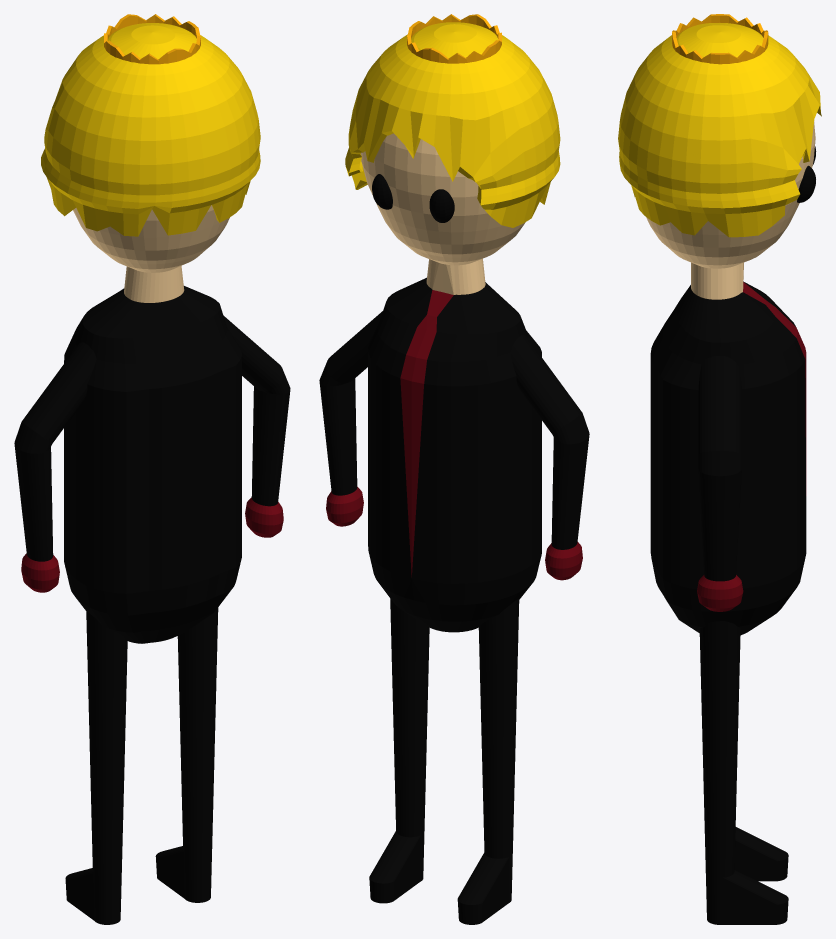
File: boss.glb
The picture shows the model from 3 angles, left to right: view 1: azimuth 30°, elevation 25°; view 2: azimuth 150°, elevation 25°; view 3: azimuth 270°, elevation 25°; orthographic projection. The views are drawn at different scales.
Parts seen in each view (by area): view 1: head, hair, legL, legR, armL, armR, crown; view 2: head, hair, legL, legR, armL, armR, crown, eyes; view 3: head, hair, legR, armR, legL, crown, eyes.
Boxes of the visible parts, left/top/right/bottom form: head: left=64, top=205, right=241, bottom=643; hair: left=41, top=23, right=260, bottom=236; legL: left=65, top=611, right=127, bottom=924; legR: left=155, top=607, right=218, bottom=902; armL: left=14, top=342, right=96, bottom=592; armR: left=223, top=315, right=290, bottom=537; crown: left=104, top=14, right=200, bottom=64; head: left=360, top=133, right=541, bottom=632; hair: left=345, top=22, right=560, bottom=227; legL: left=457, top=599, right=519, bottom=924; legR: left=369, top=599, right=429, bottom=903; armL: left=511, top=334, right=589, bottom=580; armR: left=319, top=311, right=382, bottom=526; crown: left=407, top=14, right=501, bottom=63; eyes: left=372, top=174, right=454, bottom=222; head: left=646, top=121, right=815, bottom=634; hair: left=618, top=23, right=821, bottom=237; legR: left=699, top=621, right=788, bottom=924; armR: left=697, top=356, right=743, bottom=611; legL: left=734, top=827, right=788, bottom=881; crown: left=672, top=14, right=768, bottom=64; eyes: left=797, top=146, right=816, bottom=202.
Bounding box in the file's own units: 0.3922 × 1.22 × 0.261.
